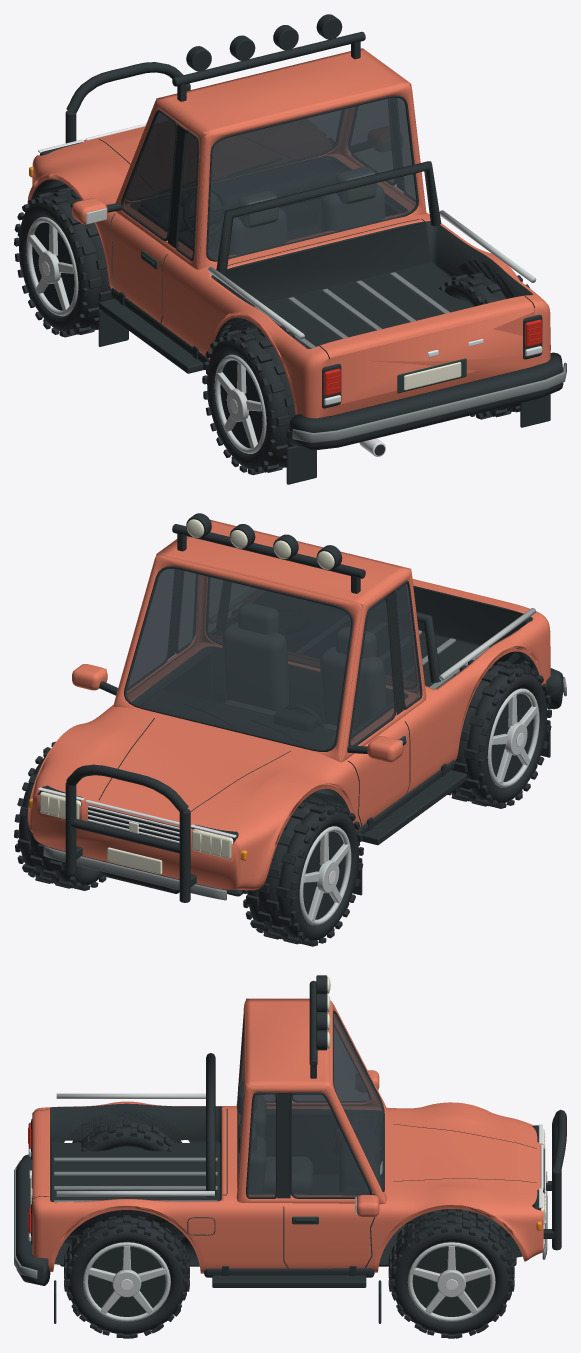
Rendered from drover.fbx.
3 renders of one model, top to bottom at view 1: azimuth 30°, elevation 25°; view 2: azimuth 150°, elevation 25°; view 3: azimuth 270°, elevation 25°, orthographic. The views are drawn at different scales.
Visible parts, largest first — view 1: Body, Wheel_RL_Mesh, Wheel_FL_Mesh, Wheel_RR_Mesh; view 2: Body, Wheel_FL_Mesh, Wheel_RL_Mesh, Wheel_FR_Mesh; view 3: Body, Wheel_FR_Mesh, Wheel_RR_Mesh, Wheel_RL_Mesh.
Part boxes in pixels (bbox=[...]): Body: bbox=[27, 14, 566, 484]; Wheel_RL_Mesh: bbox=[202, 324, 302, 475]; Wheel_FL_Mesh: bbox=[14, 187, 112, 337]; Wheel_RR_Mesh: bbox=[439, 272, 550, 419]; Body: bbox=[27, 513, 566, 902]; Wheel_FL_Mesh: bbox=[242, 796, 363, 946]; Wheel_RL_Mesh: bbox=[447, 658, 551, 808]; Wheel_FR_Mesh: bbox=[14, 741, 106, 890]; Body: bbox=[14, 975, 566, 1323]; Wheel_FR_Mesh: bbox=[388, 1209, 514, 1338]; Wheel_RR_Mesh: bbox=[64, 1215, 189, 1338]; Wheel_RL_Mesh: bbox=[72, 1120, 182, 1151].
Size of the model in its own units: 238 by 227 by 409.
